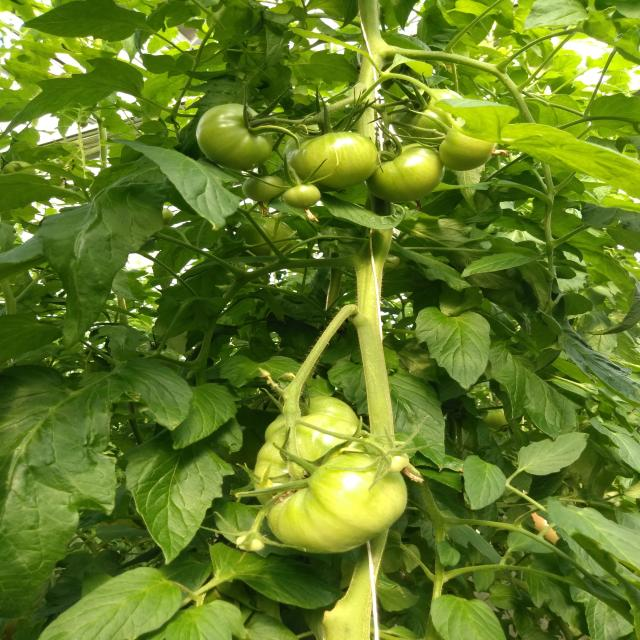yesil: (168, 92, 480, 232), (218, 404, 424, 544)
